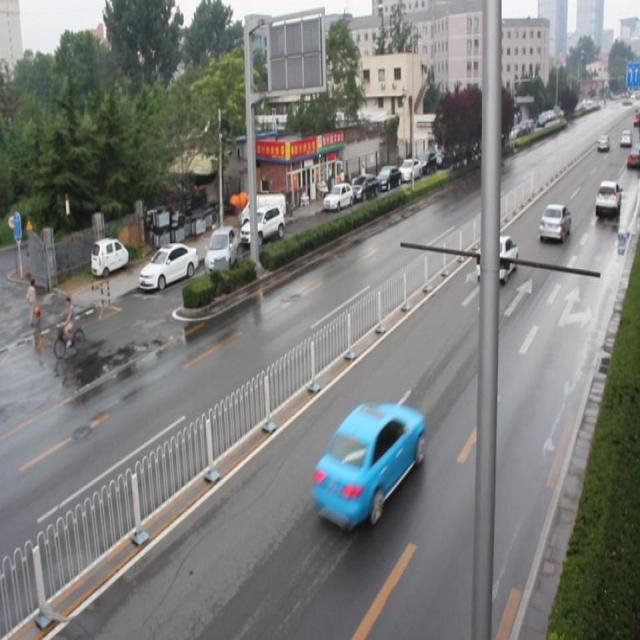car: (311, 396, 423, 524), (476, 236, 516, 280), (538, 202, 569, 240), (593, 179, 621, 218)
